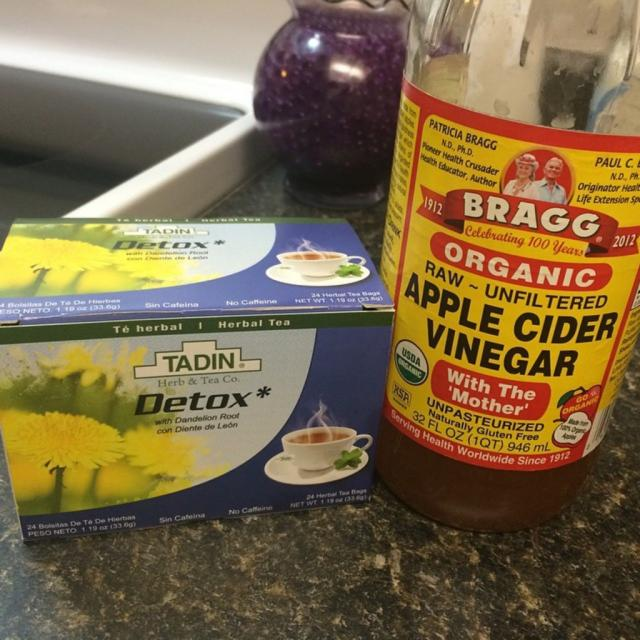Tea: (287, 428, 349, 443), (285, 254, 339, 260)
